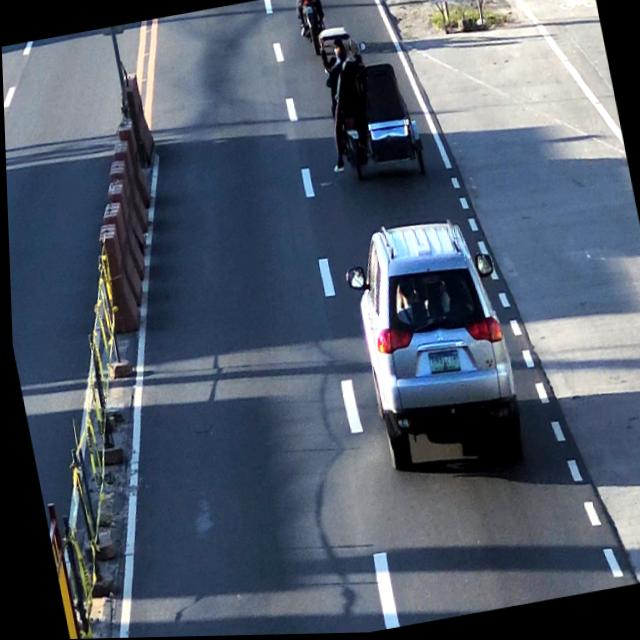Car: (340, 210, 531, 481)
License-Plate: (425, 349, 461, 383)
Motorcycle: (288, 0, 334, 53)
Tricycle: (310, 15, 428, 181)
